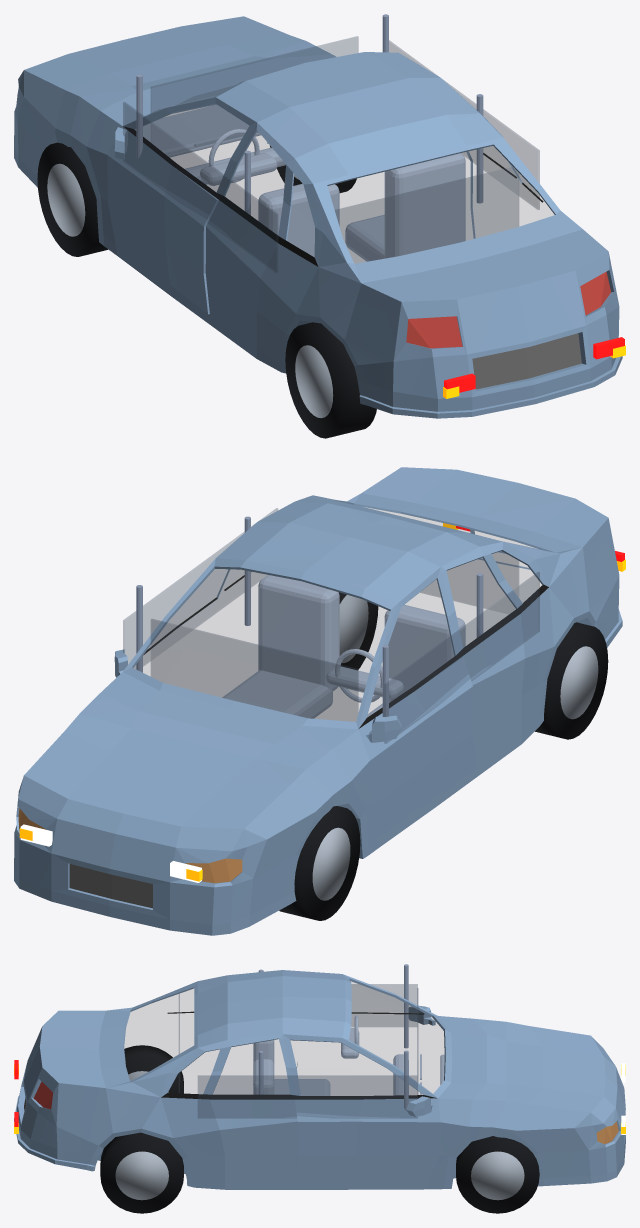
The model's file is sedan.glb.
3 renders of one model, top to bottom at view 1: azimuth 30°, elevation 25°; view 2: azimuth 150°, elevation 25°; view 3: azimuth 270°, elevation 25°, orthographic. The views are drawn at different scales.
Visible parts, largest first — view 1: BODY, GLASS_REAR, GLASS_LEFT, SEAT_PASSENGER_BACK, GLASS_FRONT, WHEEL_RL_TIRE, WHEEL_FL_TIRE, COCKPIT_HOOD, SEAT_DRIVER_BACK, GLASS_RIGHT, WHEEL_FL_RIM, WHEEL_RL_RIM (+3 smaller); view 2: BODY, GLASS_FRONT, GLASS_LEFT, SEAT_PASSENGER_BACK, GLASS_RIGHT, SEAT_DRIVER_BACK, WHEEL_FL_TIRE, WHEEL_RL_TIRE, SEAT_PASSENGER_BASE, GLASS_REAR, WHEEL_FL_RIM, WHEEL_RL_RIM (+3 smaller); view 3: BODY, GLASS_RIGHT, WHEEL_RR_TIRE, WHEEL_FR_TIRE, GLASS_LEFT, WHEEL_FR_RIM, WHEEL_RR_RIM, WHEEL_RL_TIRE, SEAT_DRIVER_BASE, SEAT_PASSENGER_BACK, INNER_A_PILLAR_L, DASHBOARD (+1 smaller).
Boxes of the visible parts, x1=… form: BODY: x1=14, y1=16, x2=622, y2=418; GLASS_REAR: x1=335, y1=167, x2=518, y2=263; GLASS_LEFT: x1=123, y1=102, x2=277, y2=273; SEAT_PASSENGER_BACK: x1=384, y1=153, x2=465, y2=258; GLASS_FRONT: x1=151, y1=36, x2=358, y2=148; WHEEL_RL_TIRE: x1=285, y1=322, x2=376, y2=438; WHEEL_FL_TIRE: x1=37, y1=142, x2=107, y2=256; COCKPIT_HOOD: x1=135, y1=105, x2=260, y2=157; SEAT_DRIVER_BACK: x1=258, y1=183, x2=339, y2=257; GLASS_RIGHT: x1=389, y1=40, x2=539, y2=209; WHEEL_FL_RIM: x1=47, y1=163, x2=85, y2=236; WHEEL_RL_RIM: x1=295, y1=345, x2=333, y2=417; BODY: x1=14, y1=467, x2=622, y2=935; GLASS_FRONT: x1=151, y1=619, x2=358, y2=721; GLASS_LEFT: x1=384, y1=572, x2=539, y2=743; SEAT_PASSENGER_BACK: x1=258, y1=575, x2=339, y2=690; GLASS_RIGHT: x1=123, y1=508, x2=277, y2=668; SEAT_DRIVER_BACK: x1=384, y1=604, x2=465, y2=701; WHEEL_FL_TIRE: x1=279, y1=806, x2=360, y2=920; WHEEL_RL_TIRE: x1=535, y1=622, x2=608, y2=739; SEAT_PASSENGER_BASE: x1=222, y1=670, x2=332, y2=718; GLASS_REAR: x1=420, y1=551, x2=518, y2=608; WHEEL_FL_RIM: x1=312, y1=827, x2=350, y2=900; WHEEL_RL_RIM: x1=560, y1=646, x2=598, y2=719; BODY: x1=14, y1=970, x2=625, y2=1189; GLASS_RIGHT: x1=198, y1=1075, x2=417, y2=1118; WHEEL_RR_TIRE: x1=100, y1=1132, x2=183, y2=1213; WHEEL_FR_TIRE: x1=456, y1=1136, x2=539, y2=1213; GLASS_LEFT: x1=351, y1=984, x2=417, y2=1026; WHEEL_FR_RIM: x1=471, y1=1151, x2=524, y2=1200; WHEEL_RR_RIM: x1=115, y1=1151, x2=168, y2=1200; WHEEL_RL_TIRE: x1=124, y1=1045, x2=183, y2=1093; SEAT_DRIVER_BASE: x1=274, y1=1079, x2=330, y2=1095; SEAT_PASSENGER_BACK: x1=253, y1=1059, x2=274, y2=1094; INNER_A_PILLAR_L: x1=404, y1=964, x2=408, y2=1048; DASHBOARD: x1=393, y1=1054, x2=408, y2=1095.
Size of the model in its own units: 1.82 by 1.44 by 4.68.
